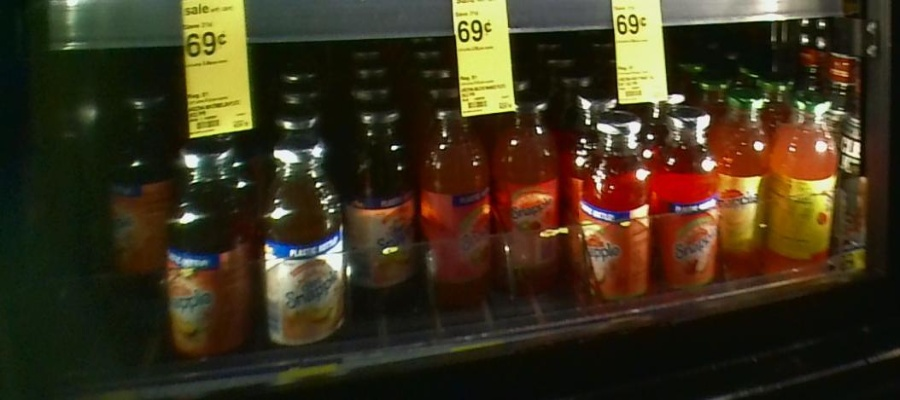bottle: (171, 135, 253, 359), (260, 134, 346, 345), (420, 100, 495, 304), (582, 97, 650, 314), (102, 75, 167, 283), (655, 105, 720, 304), (774, 87, 839, 273), (499, 101, 562, 282), (349, 111, 412, 290), (724, 86, 767, 272)
